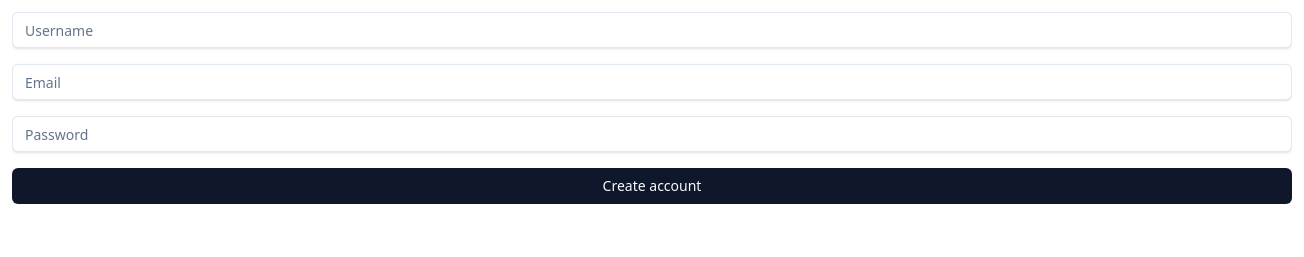
Scenario: RegisterForm › shows error on failure
Type "bob" into the field with placeholder "Username".
click(652, 30); type("bob")  # box [12,12,1292,48]
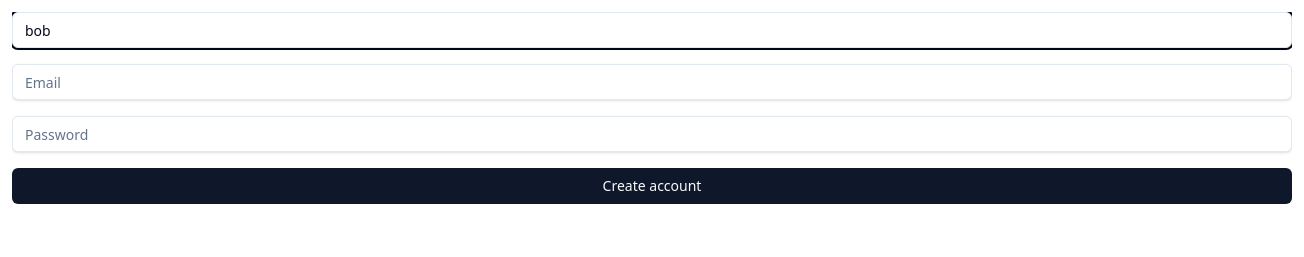
Type "bob@test.com" into the field with placeholder "Email".
click(652, 82); type("bob@test.com")  # box [12,64,1292,100]
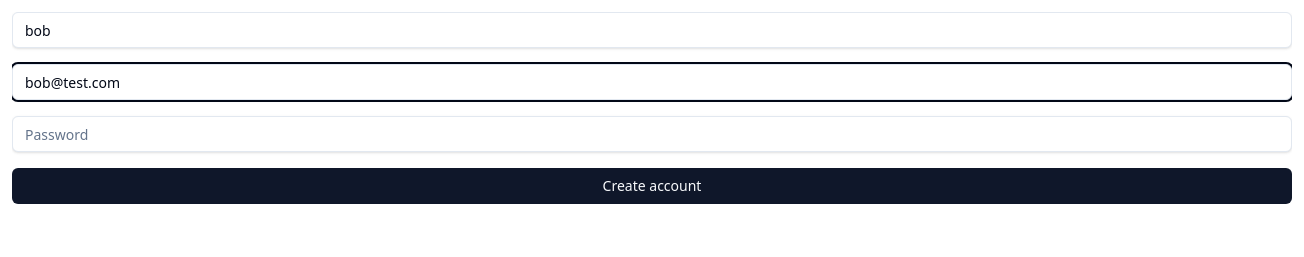
Type "password123" into the password field with placeholder "Password".
click(652, 134); type("password123")  # box [12,116,1292,152]
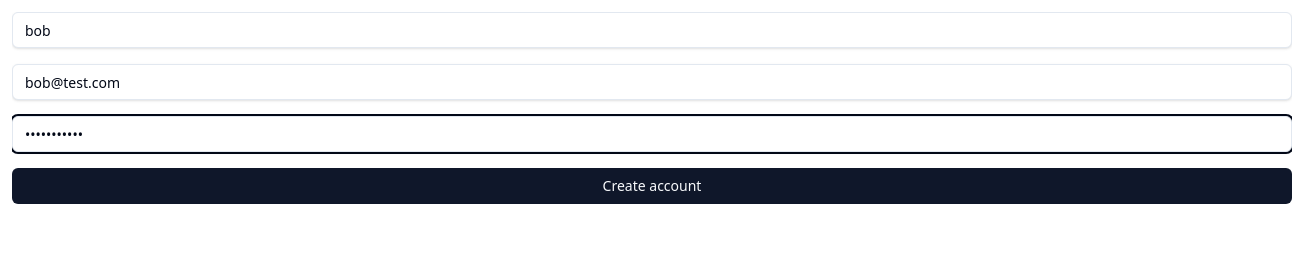
Click the button "Create account".
click(652, 186)  # box [12,168,1292,204]
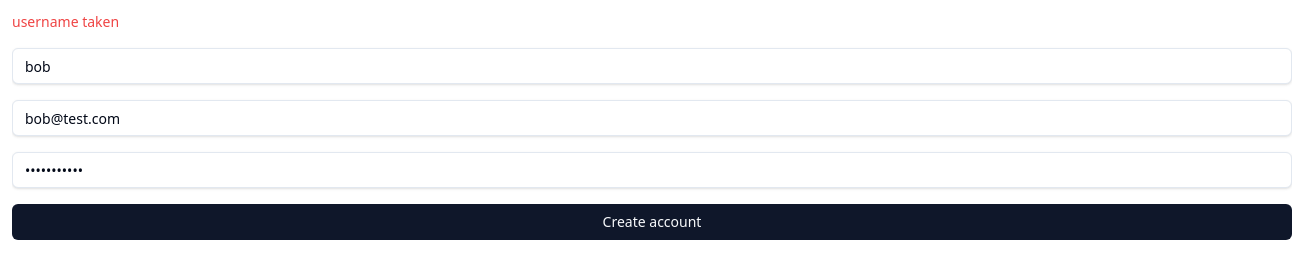
Expected: the text "username taken" is shown, [12,12,119,31]
